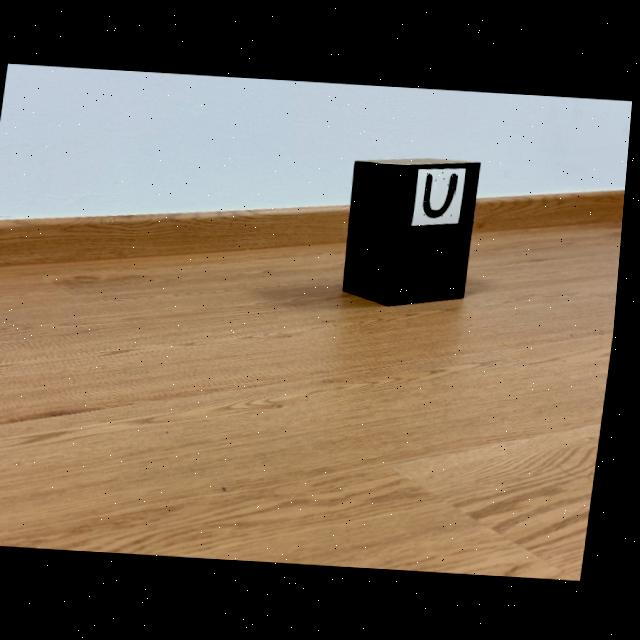U: (427, 173, 460, 217)
